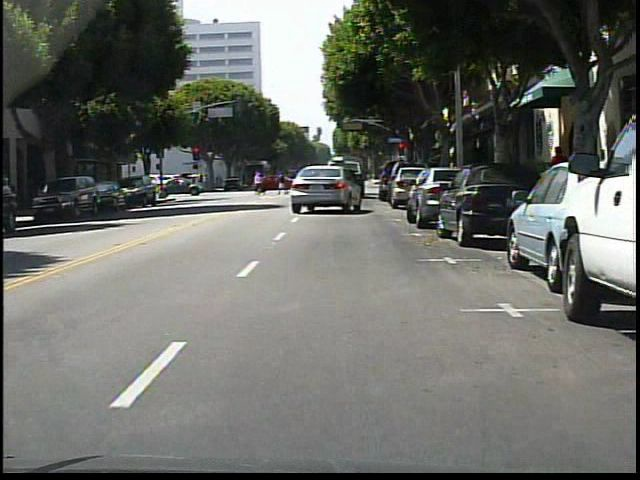person: (547, 143, 574, 201), (279, 168, 291, 195), (253, 171, 266, 195), (262, 173, 268, 189)
